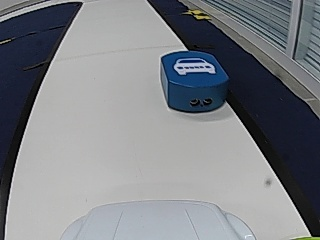safety: (173, 56, 216, 75)
